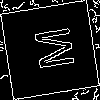M: (25, 25, 75, 73)
